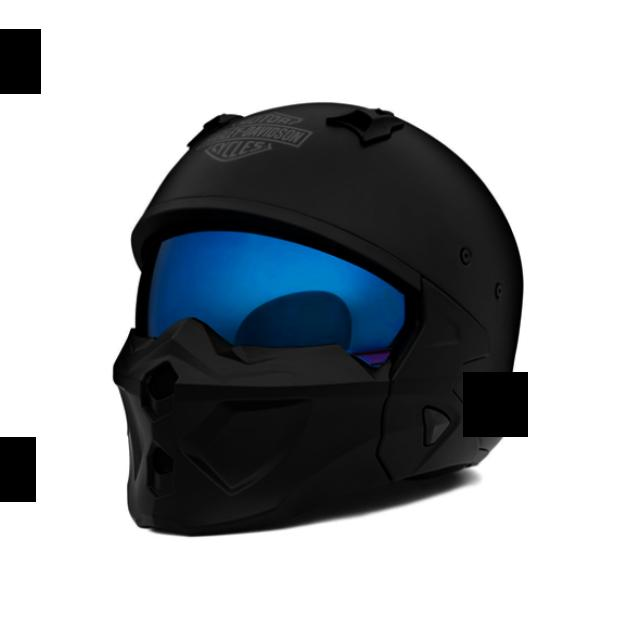Helmet: (114, 104, 522, 534)
